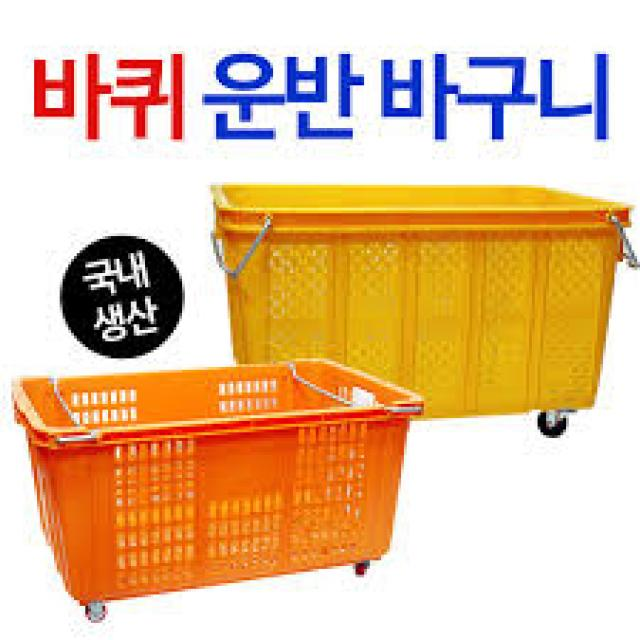basket: (10, 329, 448, 621), (211, 185, 632, 420)
